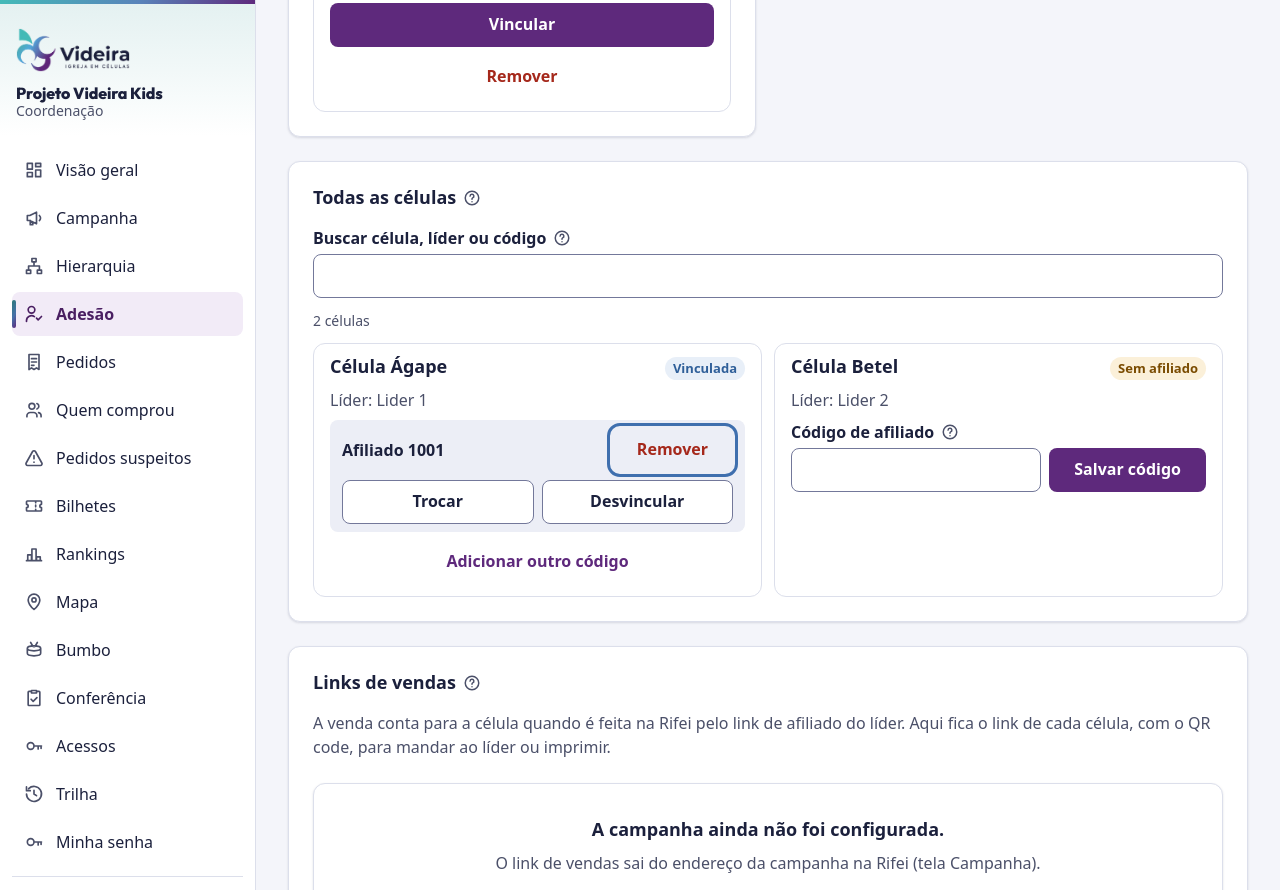
Test: CA5: remover › 409 afiliado_com_pedidos: mostra quantos e quais pedidos contam (com o link para a busca) e diz para desconsiderar antes
(page scrolled)
Click the button named "Remover o afiliado 1001" at (672, 450), box [612,428,733,472]
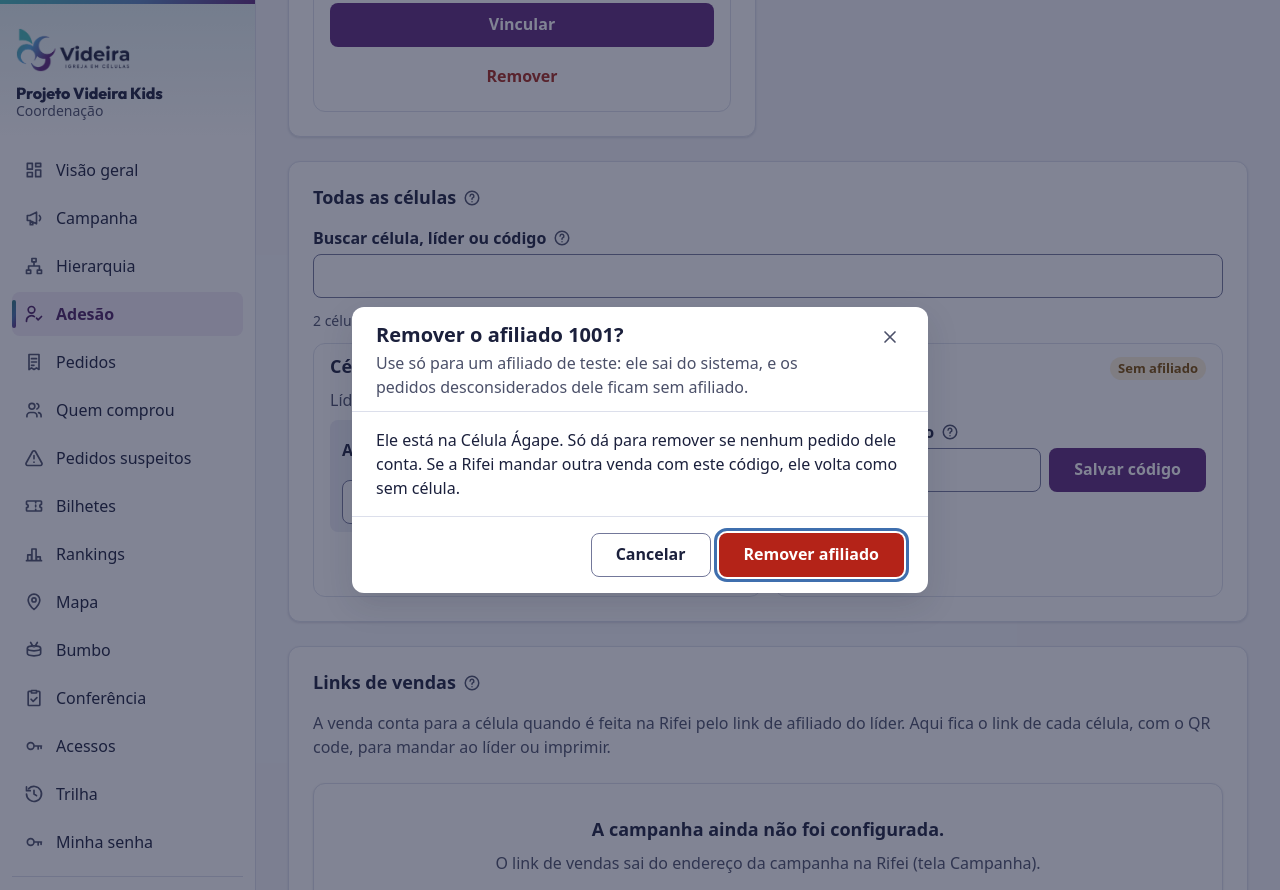
Result: the dialog "Remover o afiliado 1001?" shows "Ele está na Célula Ágape." at [376,429,568,451]
Click the button "Remover afiliado" at (811, 555), box [718,533,904,577]
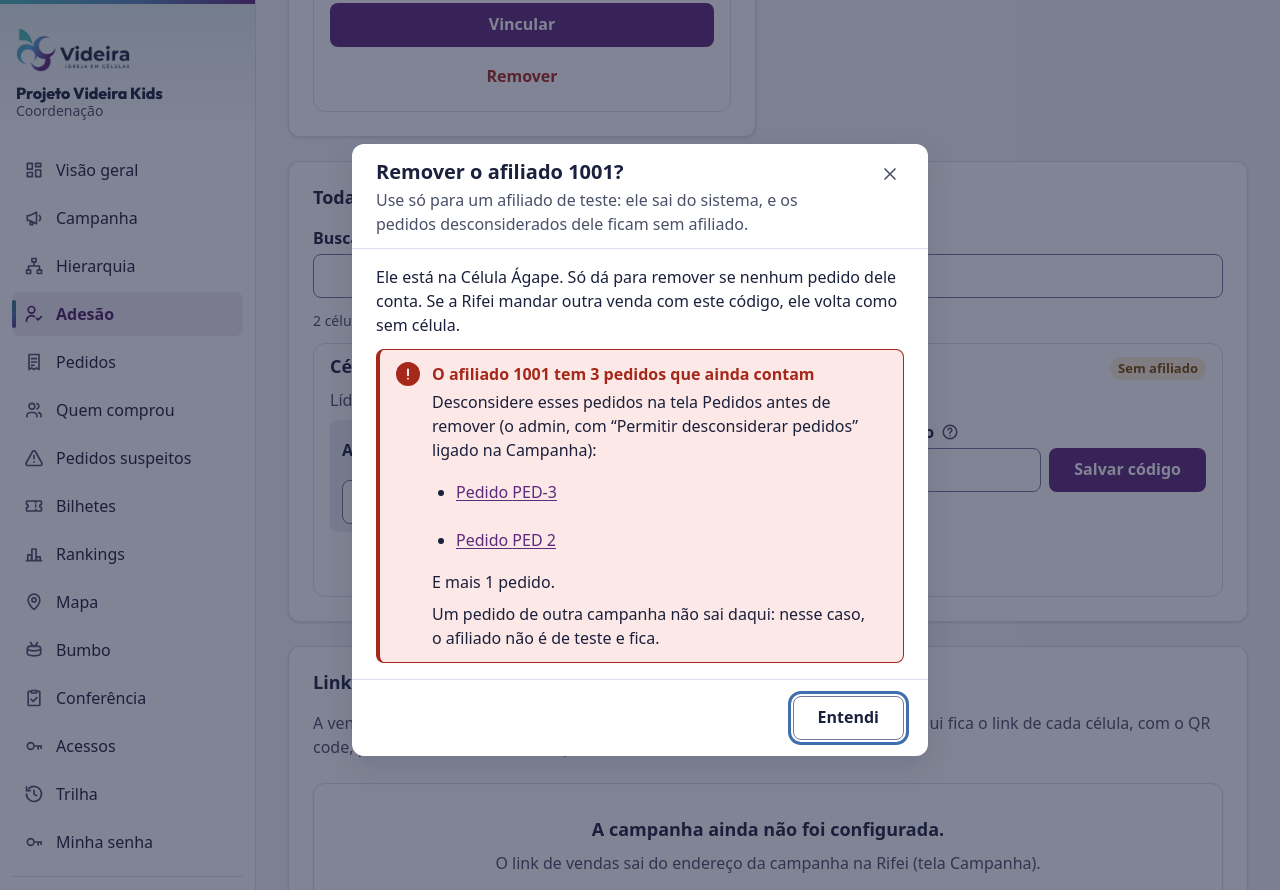
Result: the message shows "O afiliado 1001 tem 3 pedidos que ainda contam" at [432,363,815,385]
Result: the message shows "Desconsidere esses pedidos na tela Pedidos antes de remover" at [376,349,904,663]
Result: the message shows "E mais 1 pedido." at [376,349,904,663]
Click the button "Entendi" at (848, 718), box [793,696,904,740]
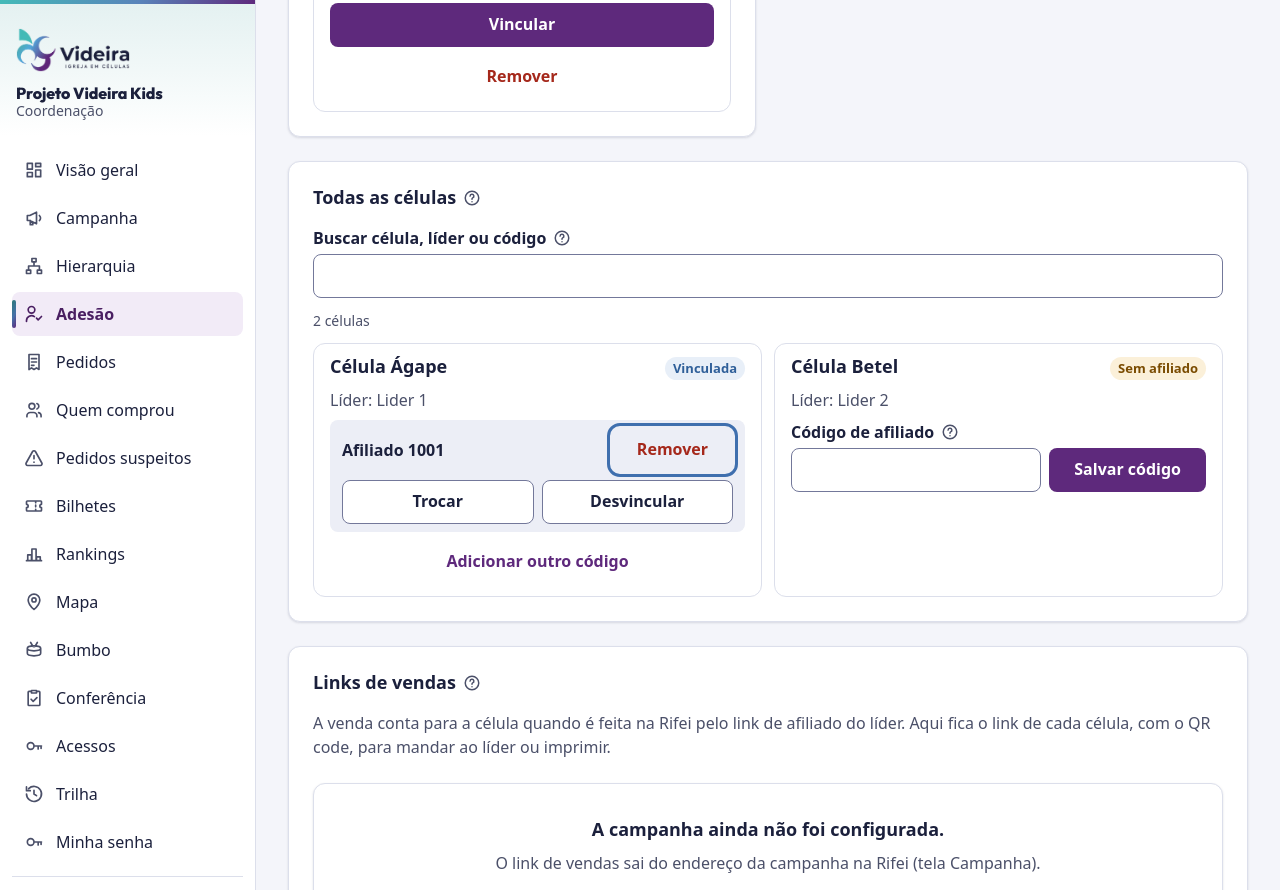
Expected: the button named "Remover o afiliado 1001" is shown, [612,428,733,472]
Result: the dialog is gone
